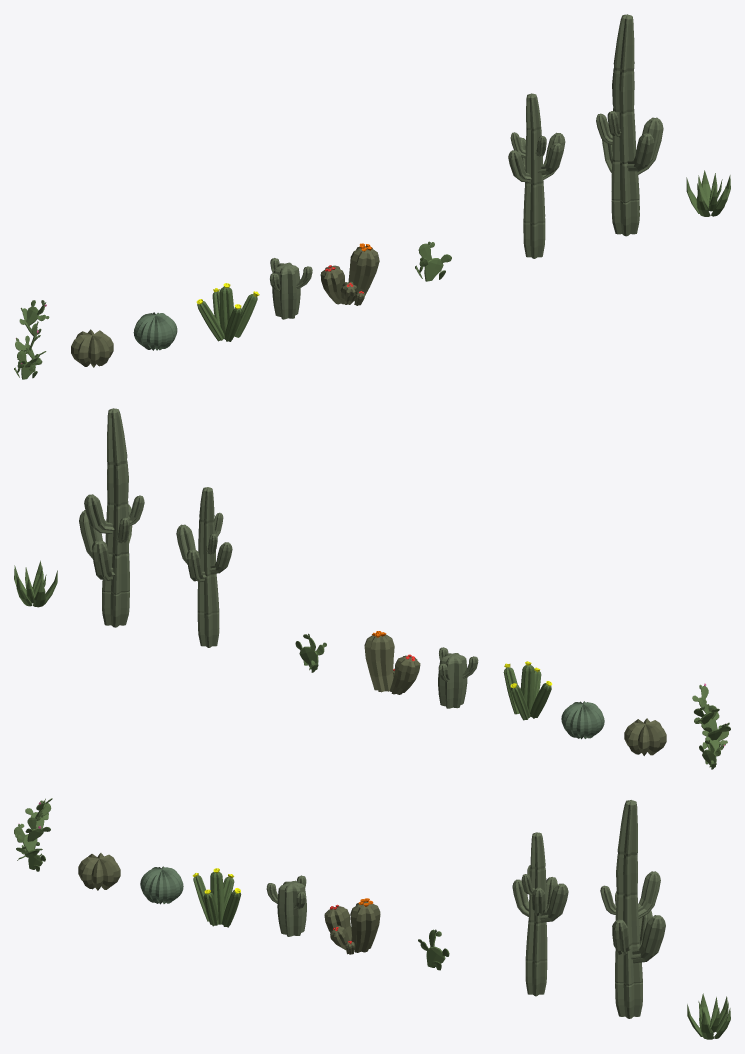
The model's file is cactus.glb.
The picture shows the model from 3 angles, top to bottom: view 1: azimuth 30°, elevation 25°; view 2: azimuth 150°, elevation 25°; view 3: azimuth 330°, elevation 25°; orthographic projection.
Visible parts, largest first — view 1: Cactus.009, Cactus.008, Cactus.006, Cactus.004, Cactus.005, Cactus.001, Cactus.003, Cactus.002, Cactus.010, Cactus.007; view 2: Cactus.009, Cactus.008, Cactus.006, Cactus.004, Cactus.005, Cactus.001, Cactus.003, Cactus.002, Cactus.010, Cactus.007; view 3: Cactus.009, Cactus.008, Cactus.006, Cactus.004, Cactus.005, Cactus.001, Cactus.003, Cactus.002, Cactus.010, Cactus.007.
Part boxes in pixels (box(x1,y1,x2,y2)): Cactus.009: box(596, 14, 663, 236); Cactus.008: box(508, 93, 565, 258); Cactus.006: box(320, 243, 379, 305); Cactus.004: box(196, 283, 259, 341); Cactus.005: box(270, 258, 312, 319); Cactus.001: box(14, 300, 49, 379); Cactus.003: box(133, 312, 177, 350); Cactus.002: box(71, 329, 113, 367); Cactus.010: box(686, 170, 730, 216); Cactus.007: box(415, 241, 451, 281); Cactus.009: box(79, 408, 144, 627); Cactus.008: box(176, 487, 232, 647); Cactus.006: box(364, 631, 420, 694); Cactus.004: box(503, 661, 552, 720); Cactus.005: box(438, 647, 478, 708); Cactus.001: box(692, 683, 730, 769); Cactus.003: box(561, 701, 604, 739); Cactus.002: box(624, 718, 666, 755); Cactus.010: box(14, 560, 57, 607); Cactus.007: box(295, 633, 326, 672); Cactus.009: box(600, 800, 665, 1018); Cactus.008: box(512, 832, 568, 996); Cactus.006: box(324, 898, 380, 954); Cactus.004: box(192, 868, 241, 927); Cactus.005: box(266, 875, 306, 936); Cactus.001: box(14, 798, 52, 871); Cactus.003: box(140, 866, 183, 904); Cactus.002: box(78, 853, 120, 890); Cactus.010: box(687, 993, 730, 1039); Cactus.007: box(418, 929, 449, 970).
Size of the model in its own units: 8.9 by 2.58 by 0.8866.
Materials: 1 (1 with a texture image).
